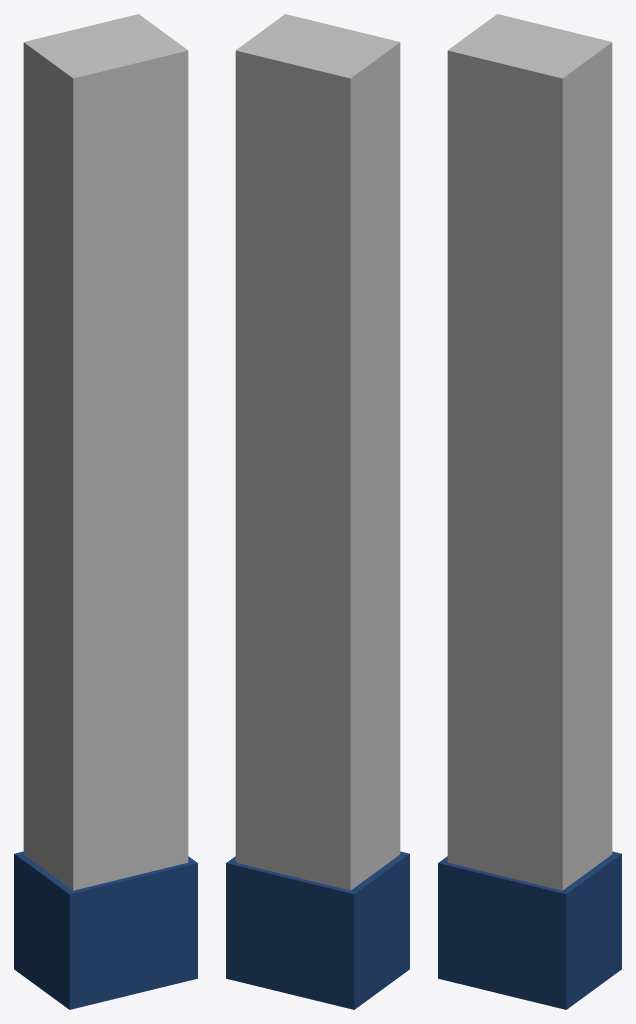
File: Pilar.fbx
The picture shows the model from 3 angles, left to right: view 1: azimuth 30°, elevation 25°; view 2: azimuth 150°, elevation 25°; view 3: azimuth 330°, elevation 25°; orthographic projection.
Visible parts, largest first — view 1: Cubo.016; view 2: Cubo.016; view 3: Cubo.016.
Boxes of the visible parts, x1,y1,x2,y2 form: Cubo.016: (14, 14, 197, 1009); Cubo.016: (226, 14, 409, 1009); Cubo.016: (438, 14, 621, 1009).
Bounding box in the file's own units: 72.33 × 500 × 54.17.
